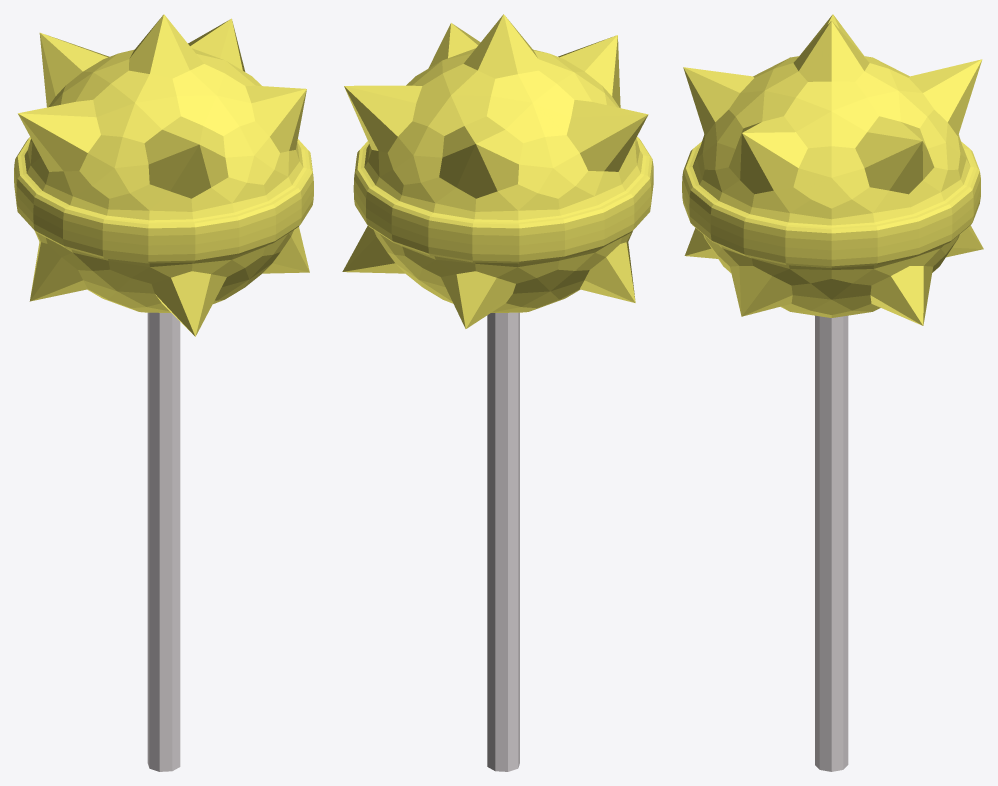
File: mandoble chupachus pro.fbx
3 renders of one model, left to right at view 1: azimuth 30°, elevation 25°; view 2: azimuth 150°, elevation 25°; view 3: azimuth 270°, elevation 25°, orthographic.
Parts seen in each view (by area): view 1: Limon & destroy; view 2: Limon & destroy; view 3: Limon & destroy.
Boxes of the visible parts, left/top/right/bottom form: Limon & destroy: left=14, top=14, right=313, bottom=771; Limon & destroy: left=342, top=14, right=653, bottom=771; Limon & destroy: left=682, top=14, right=983, bottom=771.
Bounding box in the file's own units: 341 × 887 × 326.
